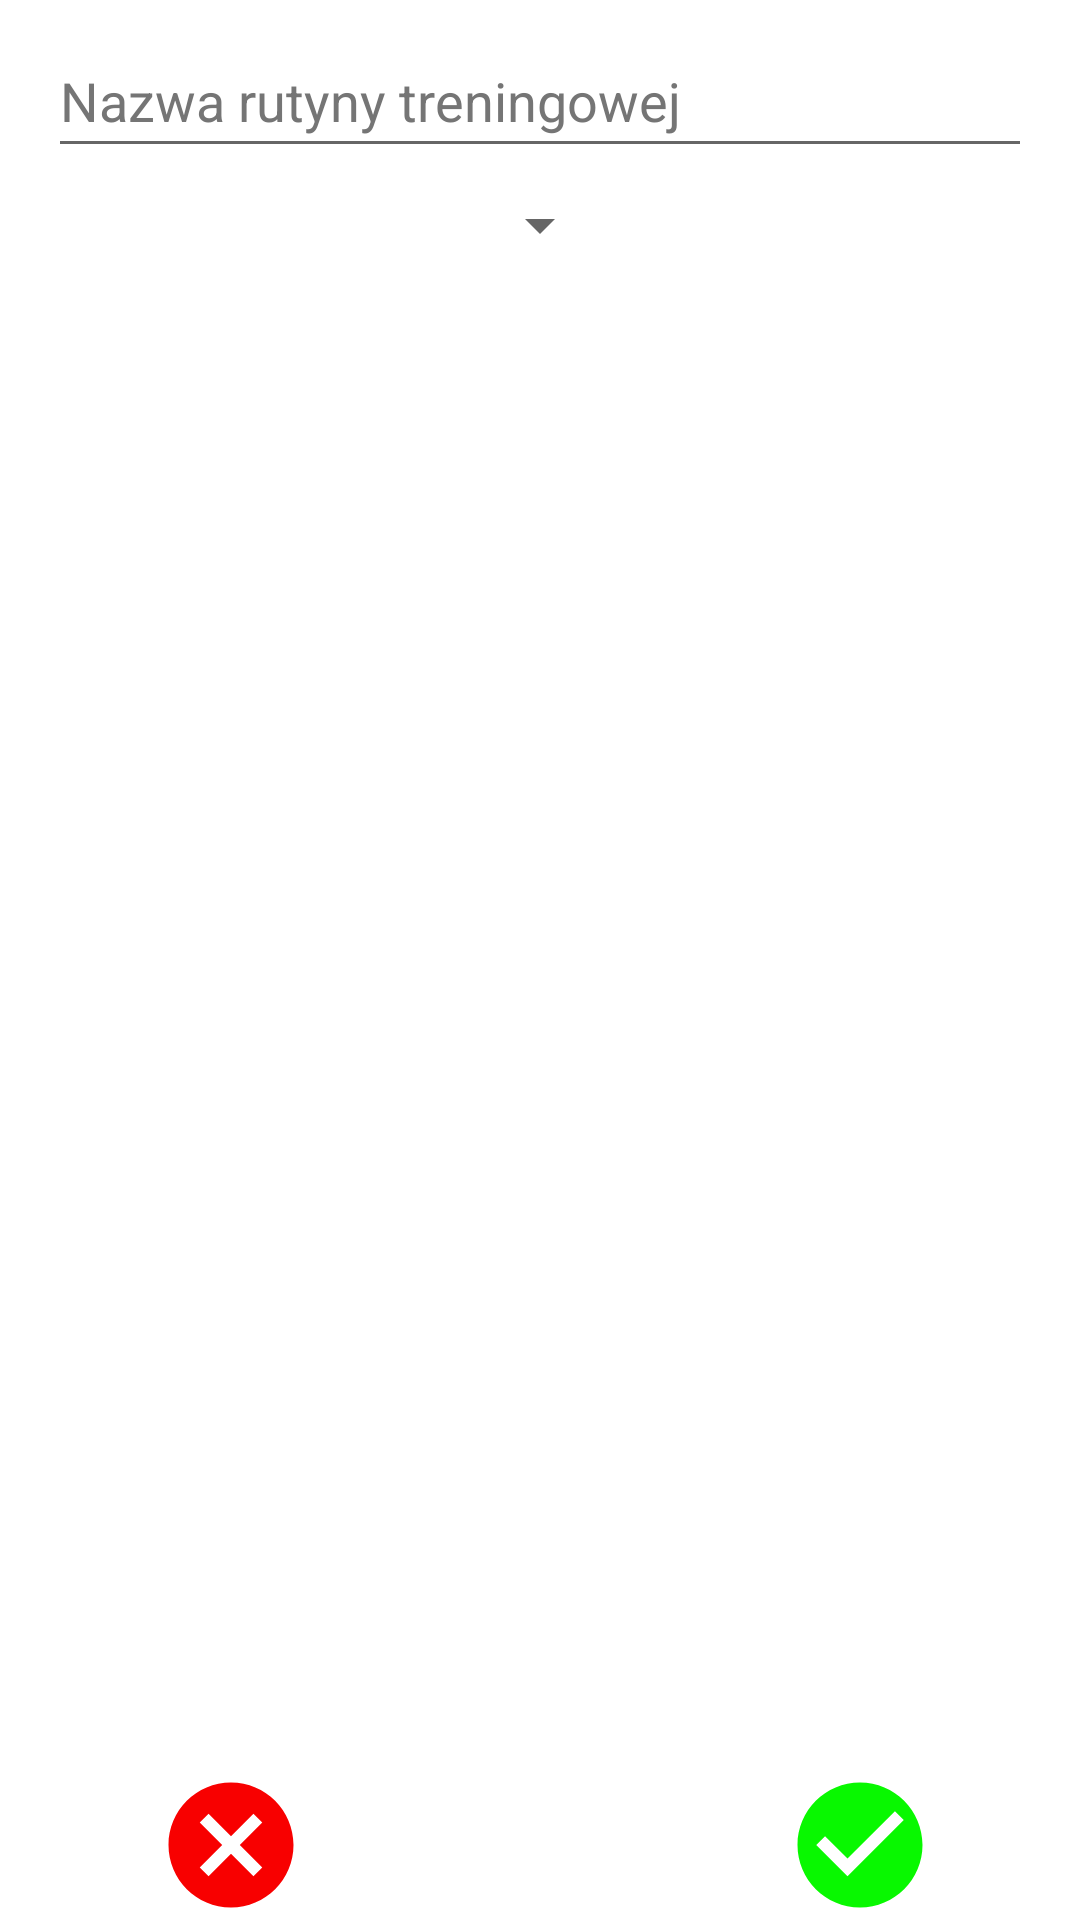

Icon bounding boxes for this 1080px x 1920px phone screenshot, format (x1, y1, x2, y2):
cancel: (168, 1782, 294, 1908)
confirm: (797, 1782, 923, 1908)
